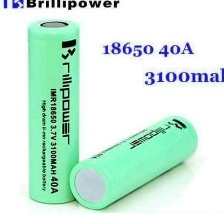battery: (64, 110, 200, 213), (24, 15, 82, 206)
